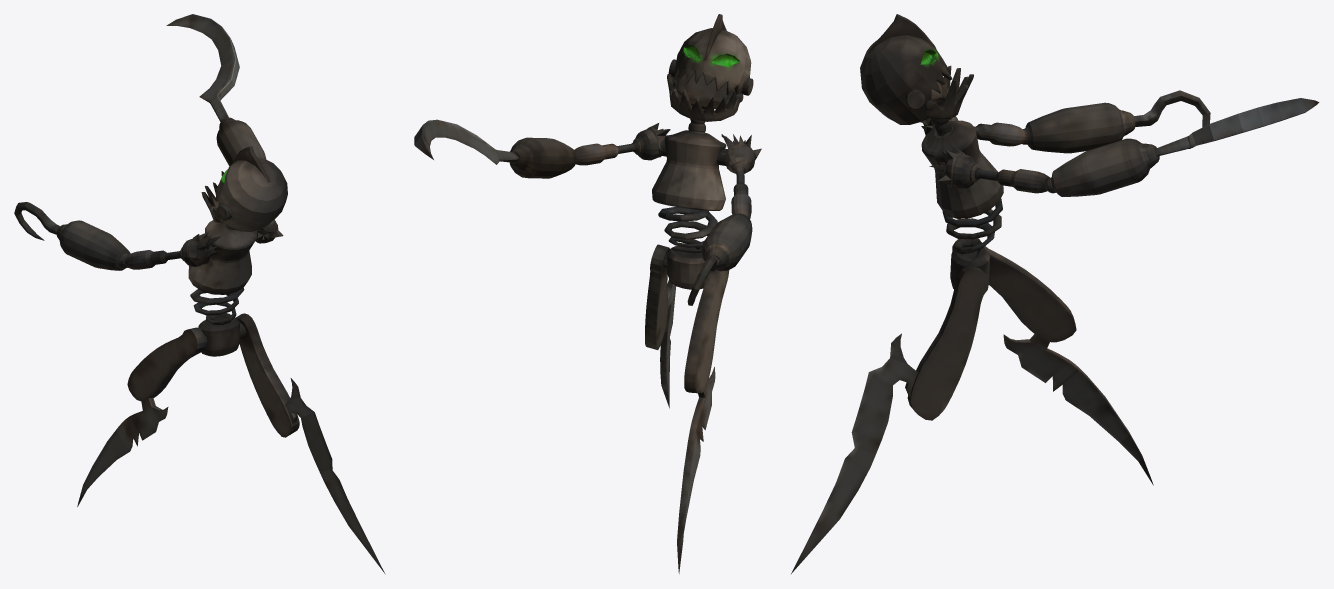
The picture shows the model from 3 angles, left to right: view 1: azimuth 30°, elevation 25°; view 2: azimuth 150°, elevation 25°; view 3: azimuth 270°, elevation 25°; orthographic projection. The views are drawn at different scales.
Parts seen in each view (by area): view 1: Assembled_Plane.008; view 2: Assembled_Plane.008; view 3: Assembled_Plane.008.
Boxes of the visible parts, x1=… form: Assembled_Plane.008: x1=14, y1=14, x2=385, y2=574; Assembled_Plane.008: x1=414, y1=14, x2=761, y2=573; Assembled_Plane.008: x1=791, y1=14, x2=1319, y2=573.
Bounding box in the file's own units: 2.61 × 4.44 × 4.16.
